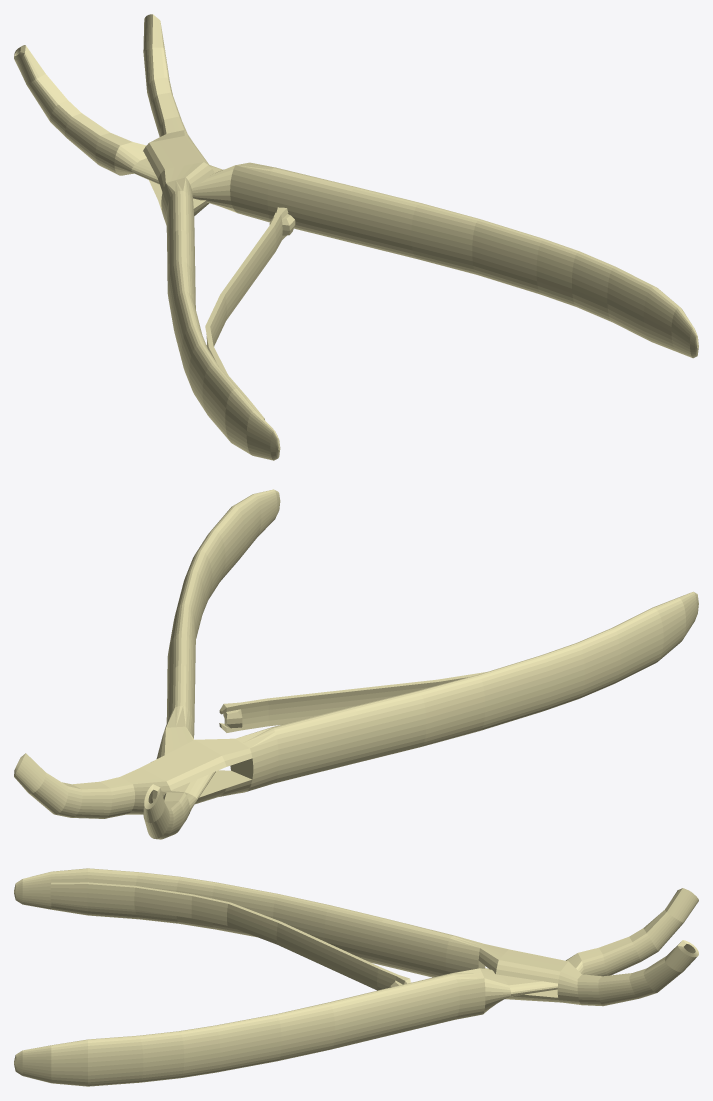
The model's file is TangGougeHakanssonOlivercrona.fbx.
The picture shows the model from 3 angles, top to bottom: view 1: azimuth 30°, elevation 25°; view 2: azimuth 150°, elevation 25°; view 3: azimuth 270°, elevation 25°; orthographic projection. The views are drawn at different scales.
Parts seen in each view (by area): view 1: Cylinder, Cylinder.001; view 2: Cylinder.001, Cylinder; view 3: Cylinder.001, Cylinder.
Part boxes in pixels (<box>): Cylinder: <box>14,45,698,358</box>; Cylinder.001: <box>143,14,295,460</box>; Cylinder.001: <box>14,591,698,818</box>; Cylinder: <box>143,489,280,839</box>; Cylinder.001: <box>14,868,698,1006</box>; Cylinder: <box>14,888,698,1086</box>.
Size of the model in its own units: 164 by 36.87 by 264.
